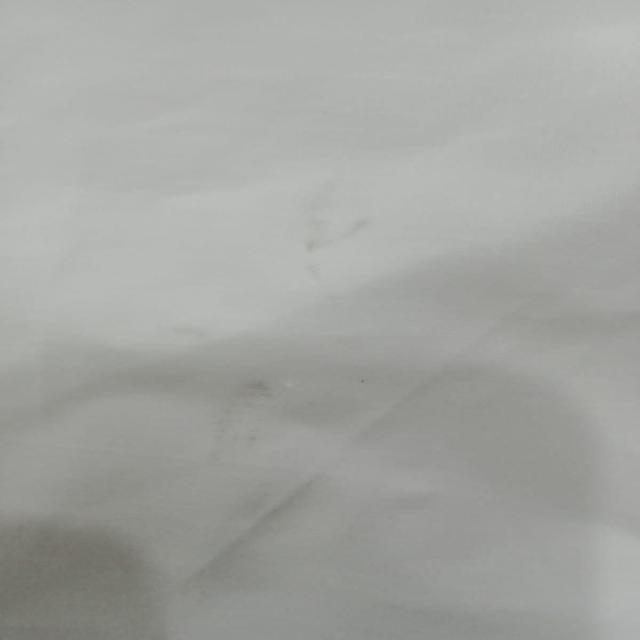stain: (208, 373, 278, 457), (296, 208, 382, 276)
